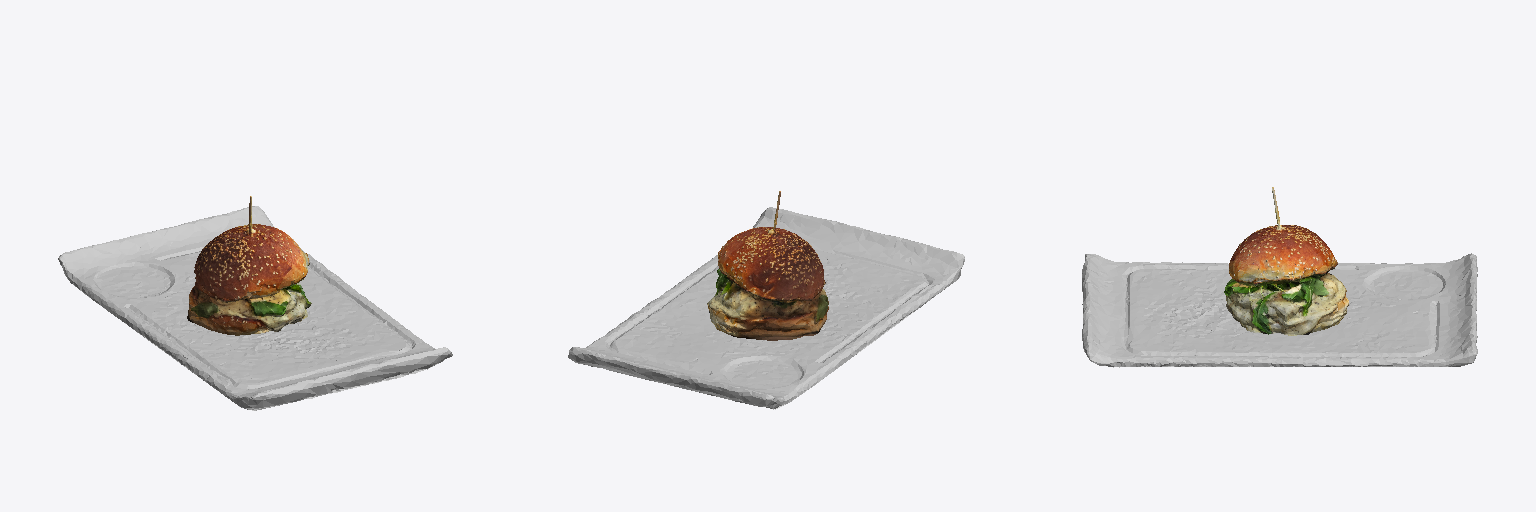
The picture shows the model from 3 angles: view 1: azimuth 30°, elevation 25°; view 2: azimuth 150°, elevation 25°; view 3: azimuth 270°, elevation 25°; orthographic projection.
Parts seen in each view (by area): view 1: mmGroup0; view 2: mmGroup0; view 3: mmGroup0.
Part boxes in pixels (left/top/right/bottom): mmGroup0: left=58, top=196, right=452, bottom=410; mmGroup0: left=568, top=191, right=964, bottom=409; mmGroup0: left=1082, top=187, right=1477, bottom=367.
Bounding box in the file's own units: 0.1827 × 0.1081 × 0.3004.
2 materials, 1 textured.